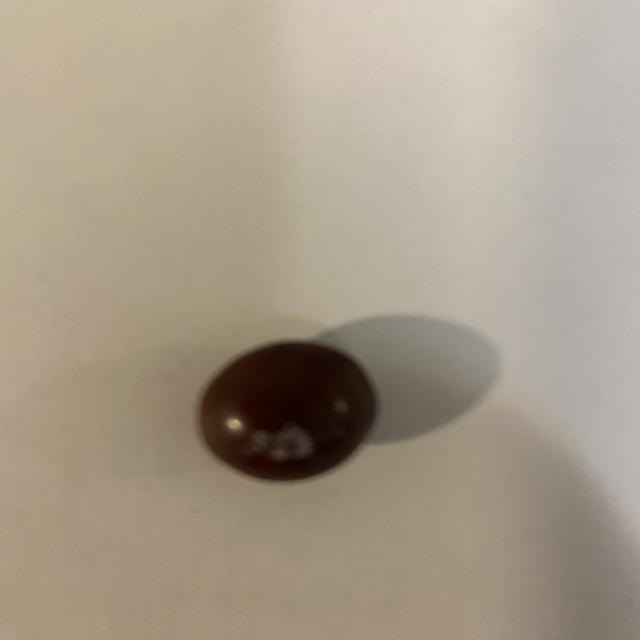smartie: (199, 343, 376, 480)
